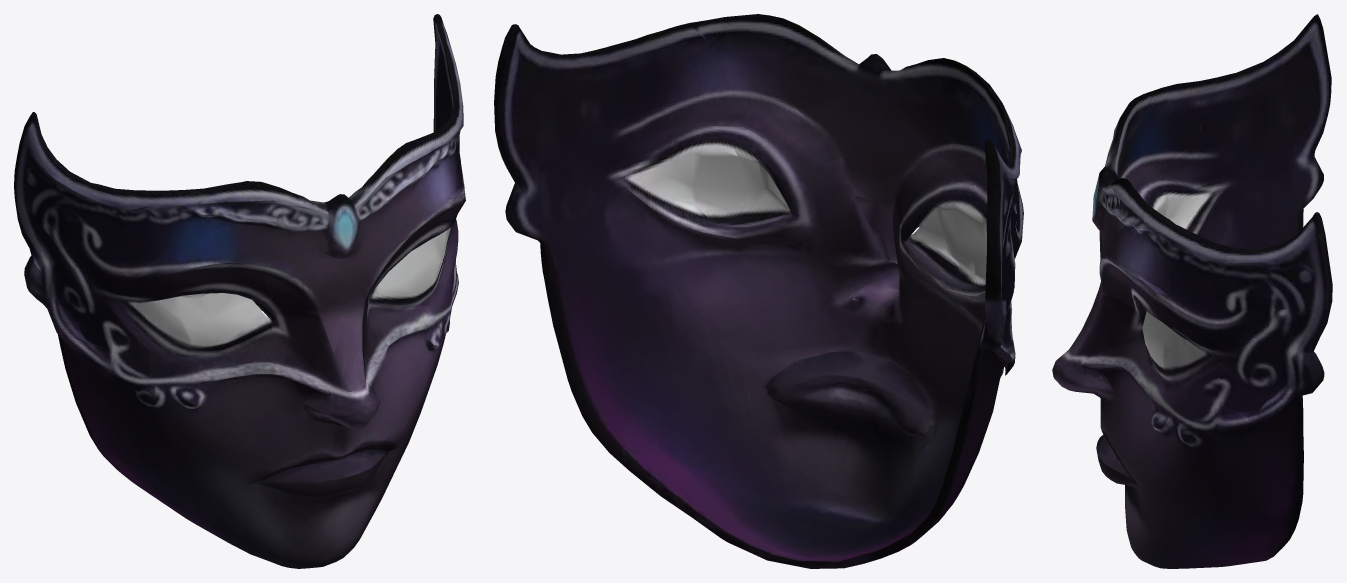
File: whisper_mask.glb
3 renders of one model, left to right at view 1: azimuth 30°, elevation 25°; view 2: azimuth 150°, elevation 25°; view 3: azimuth 270°, elevation 25°, orthographic. The views are drawn at different scales.
Parts seen in each view (by area): view 1: world; view 2: world; view 3: world.
Boxes of the visible parts, <box> form: world: <box>14,14,465,568</box>; world: <box>494,14,1023,568</box>; world: <box>1052,14,1332,568</box>.
Bounding box in the file's own units: 0.19 × 0.1868 × 0.1067.
Materials: 1 (1 with a texture image).
